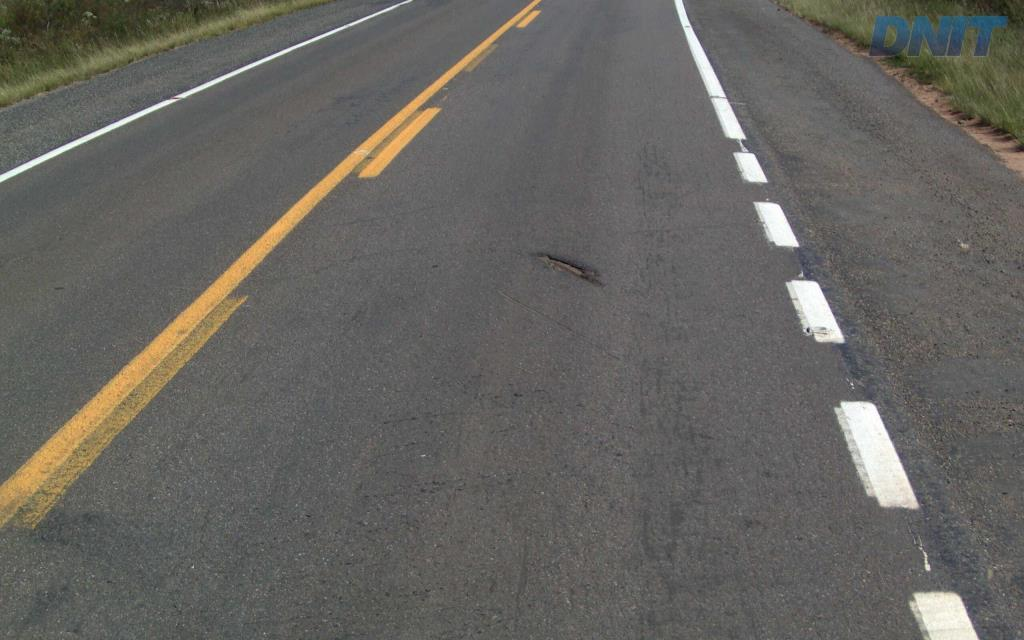pothole: (529, 246, 599, 285)
